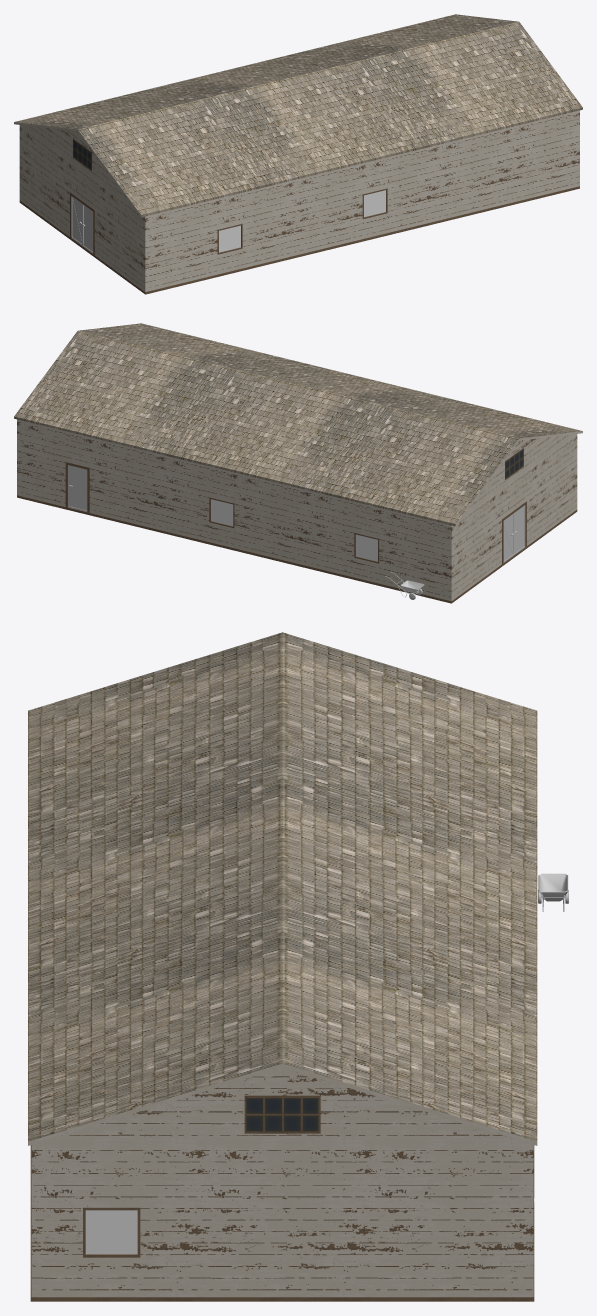
File: FarmPigstu.fbx
3 views of the same model, one above another, from view 1: azimuth 30°, elevation 25°; view 2: azimuth 150°, elevation 25°; view 3: azimuth 270°, elevation 25° (orthographic). The views are drawn at different scales.
Visible parts, largest first — view 1: pigsty.001, pigsty.002, pigsty, FarmDoor1.006, FarmDoor1.005, Steklo.002, Steklo.003; view 2: pigsty.001, pigsty.002, pigsty, FarmDoor1.004, Steklo, FarmDoor1.005, Steklo.001, FarmDoor1.006; view 3: pigsty.001, pigsty.002, pigsty, Steklo.004, Wheelbarrow2.003.
Boxes of the visible parts, x1,y1,x2,y2 form: pigsty.001: [14, 14, 582, 217]; pigsty.002: [19, 110, 579, 292]; pigsty: [19, 186, 579, 294]; FarmDoor1.006: [71, 196, 82, 245]; FarmDoor1.005: [82, 204, 93, 253]; Steklo.002: [219, 225, 240, 252]; Steklo.003: [364, 190, 385, 217]; pigsty.001: [14, 323, 582, 526]; pigsty.002: [17, 419, 577, 601]; pigsty: [17, 495, 577, 603]; FarmDoor1.004: [68, 465, 87, 511]; Steklo: [211, 499, 233, 526]; FarmDoor1.005: [514, 505, 525, 554]; Steklo.001: [356, 534, 377, 561]; FarmDoor1.006: [503, 513, 513, 562]; pigsty.001: [28, 632, 537, 1145]; pigsty.002: [31, 1067, 533, 1297]; pigsty: [30, 1145, 534, 1301]; Steklo.004: [85, 1210, 137, 1254]; Wheelbarrow2.003: [538, 873, 568, 911].
Size of the model in its own units: 2394 by 623 by 1269.
